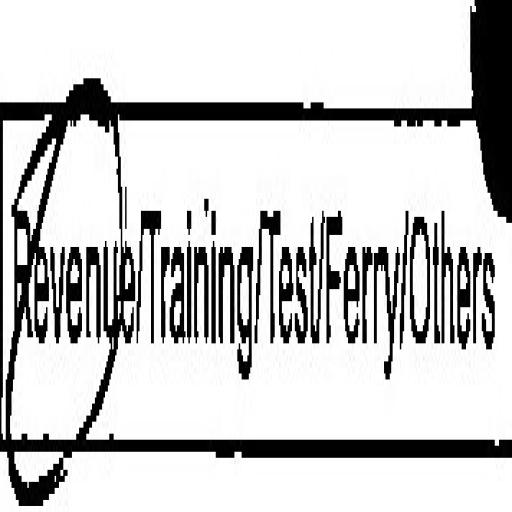check: (0, 18, 137, 512)
